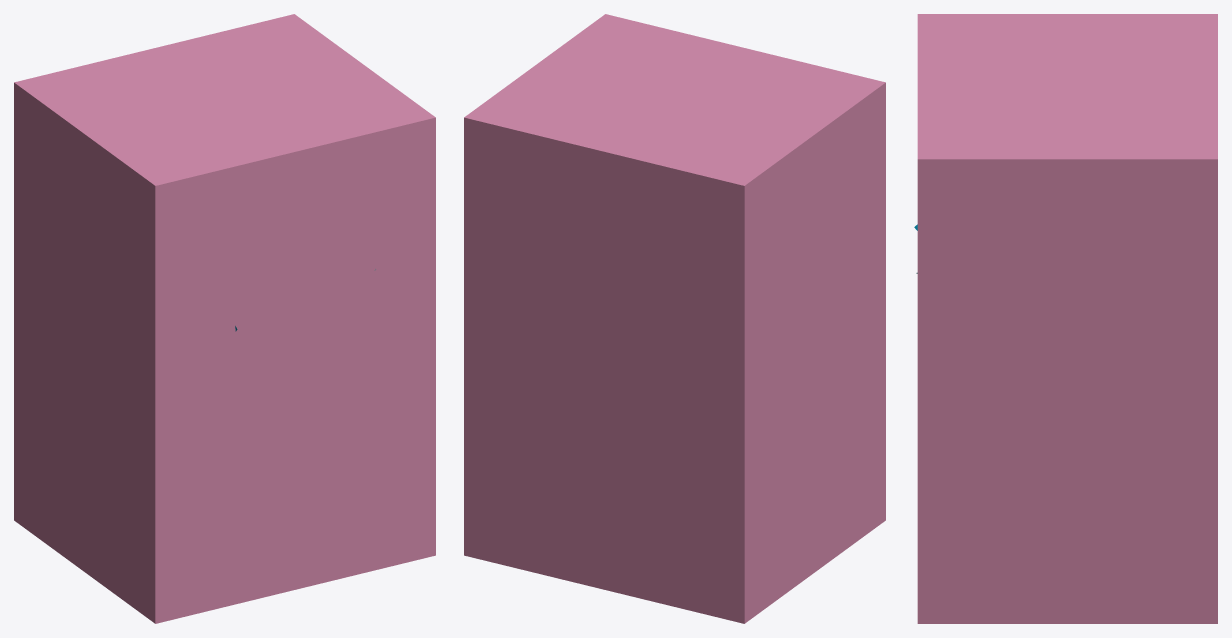
File: tree_beech_small_b.dae
3 views of the same model, side by side, from view 1: azimuth 30°, elevation 25°; view 2: azimuth 150°, elevation 25°; view 3: azimuth 270°, elevation 25° (orthographic). The views are drawn at different scales.
Visible parts, largest first — view 1: Untitled; view 2: Untitled; view 3: Untitled.
Part boxes in pixels (left/top/right/bottom): Untitled: left=14, top=14, right=435, bottom=623; Untitled: left=464, top=14, right=885, bottom=623; Untitled: left=917, top=14, right=1217, bottom=623.
Bounding box in the file's own units: 4.56 × 4.03 × 7.11.
